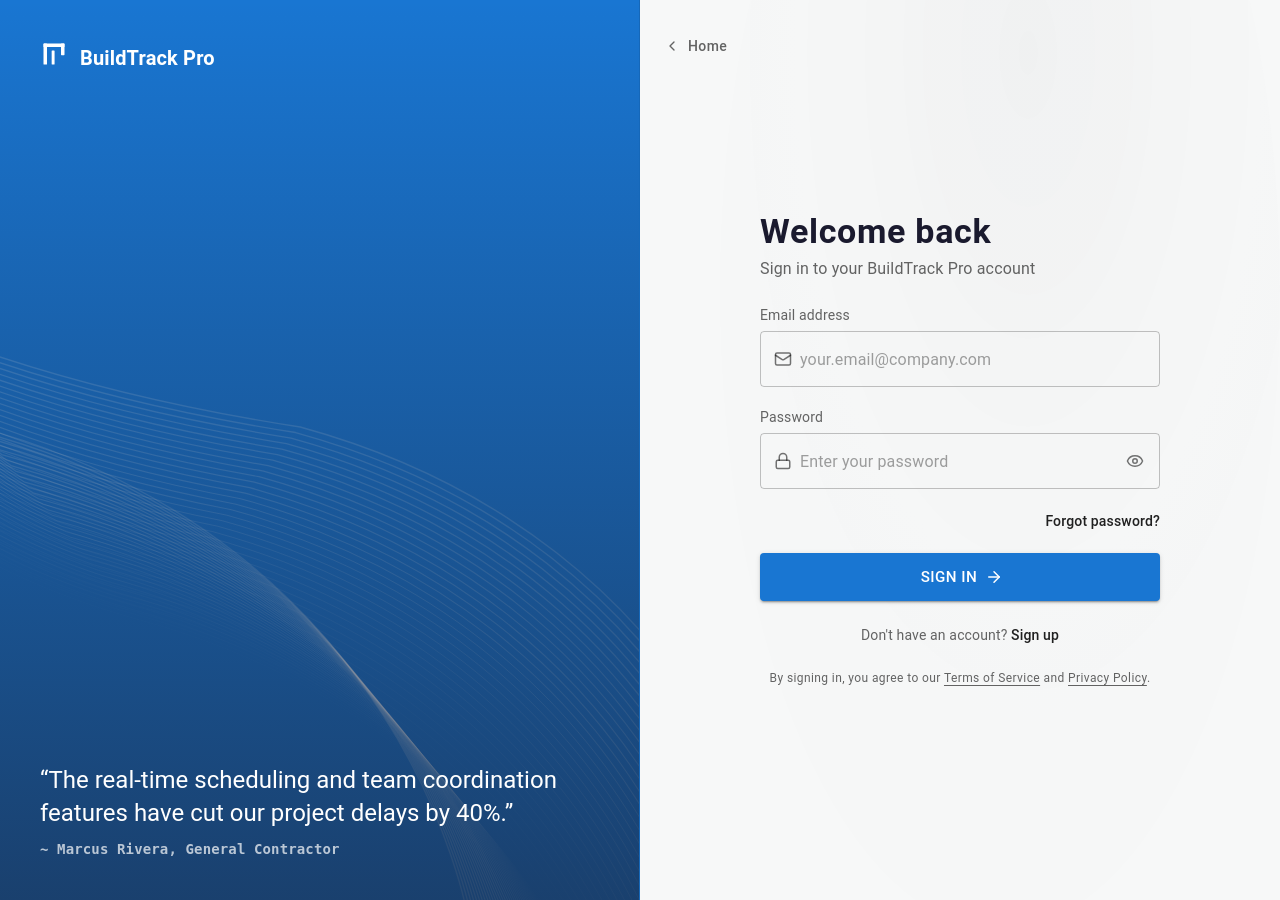
Test: SignInPage › displays error message on sign-in failure
In the field named "email address": (980, 359) [800, 331, 1160, 387], type "test@example.com"
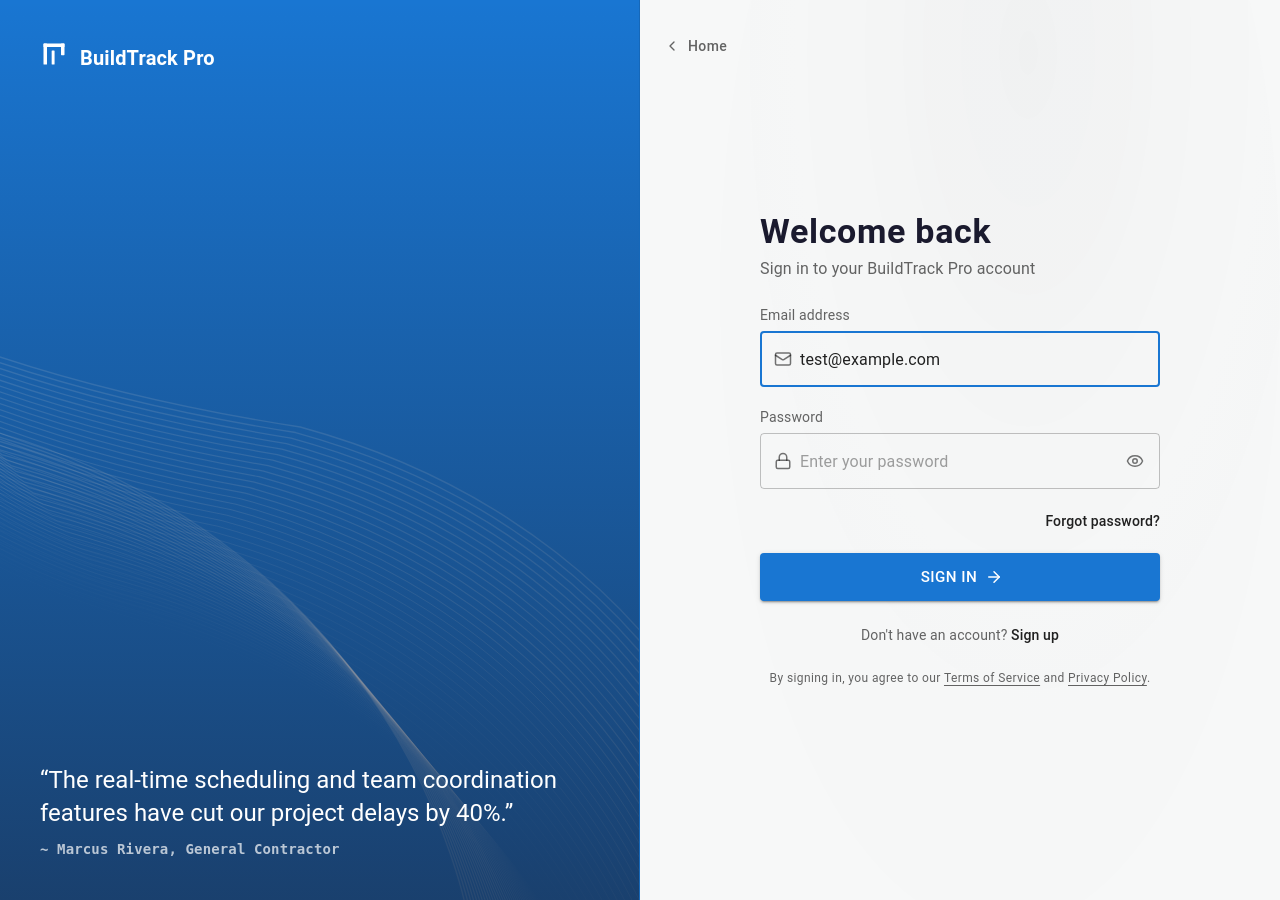
In the password field labelled "Enter your password": (956, 461) [800, 433, 1113, 489], type "wrongpassword"
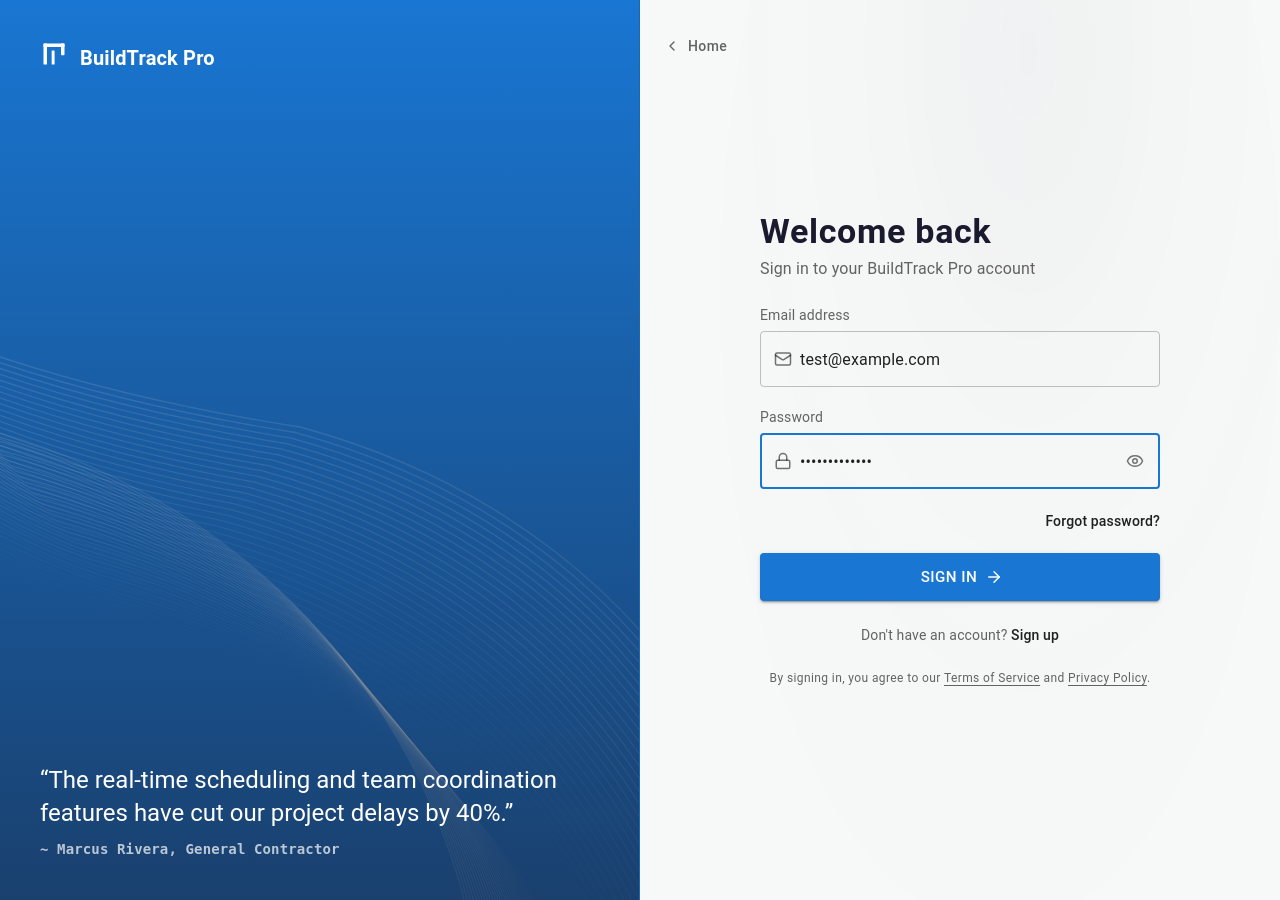
Click the button "Sign in": (960, 577) [760, 553, 1160, 601]
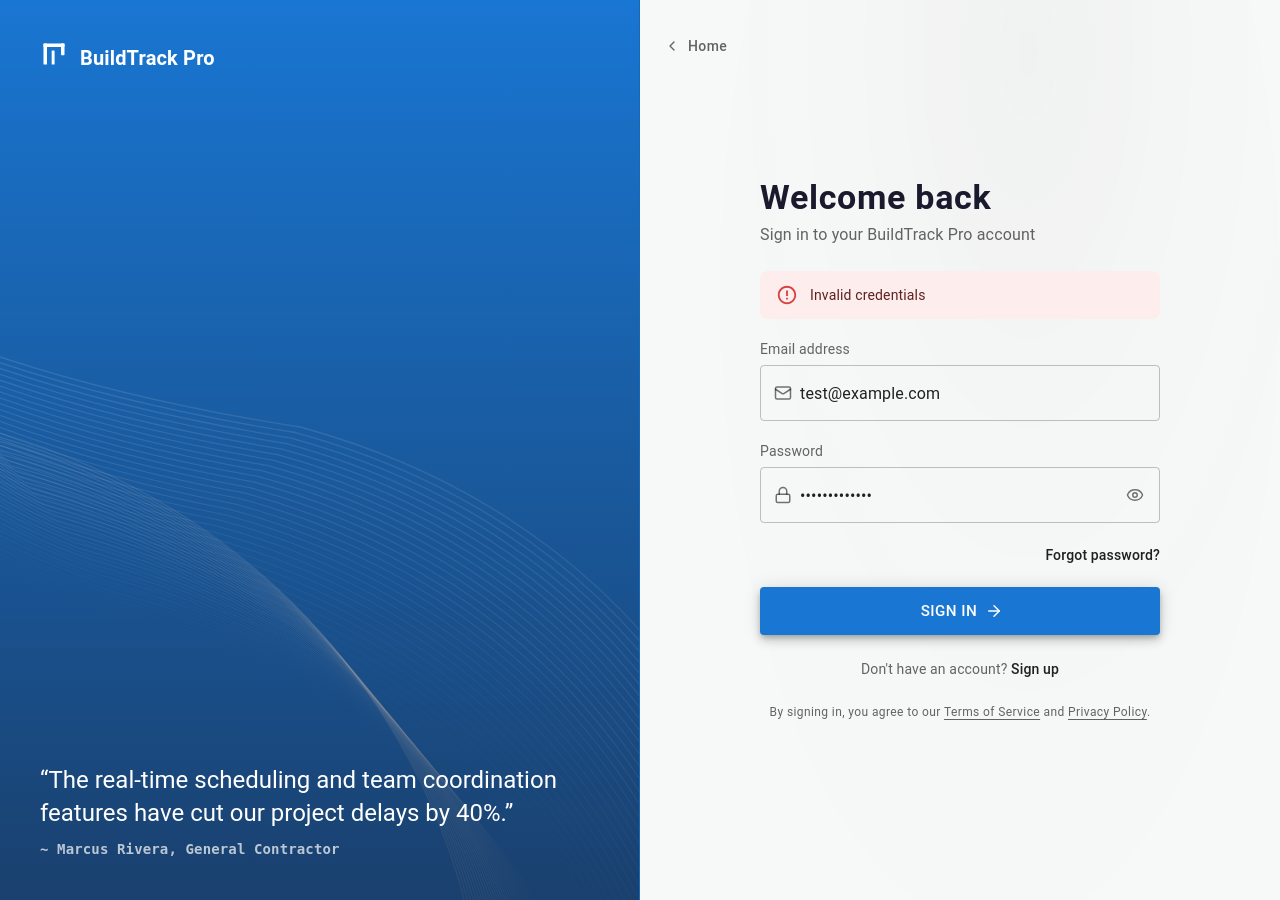
expect the text "Invalid credentials" is shown: met, box [810, 287, 926, 303]
